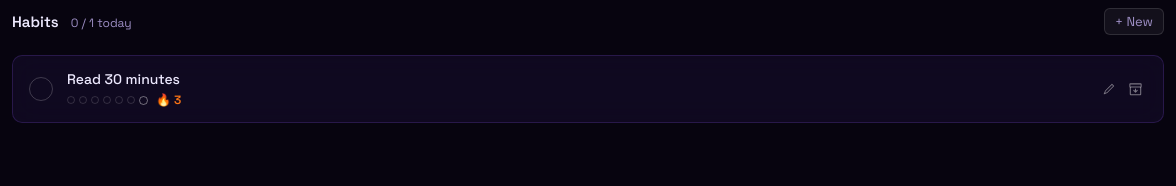
habit history heatmap › clicking the history toggle expands the heatmap
Step 1. Click the button named "toggle completion history" → click(71, 100), box [67,92,1083,108]
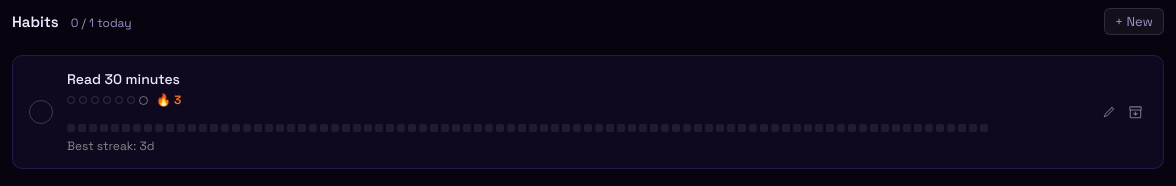
Check: the element with class "habit-card-heatmap-wrap" is shown, box [67,118,1083,154]
